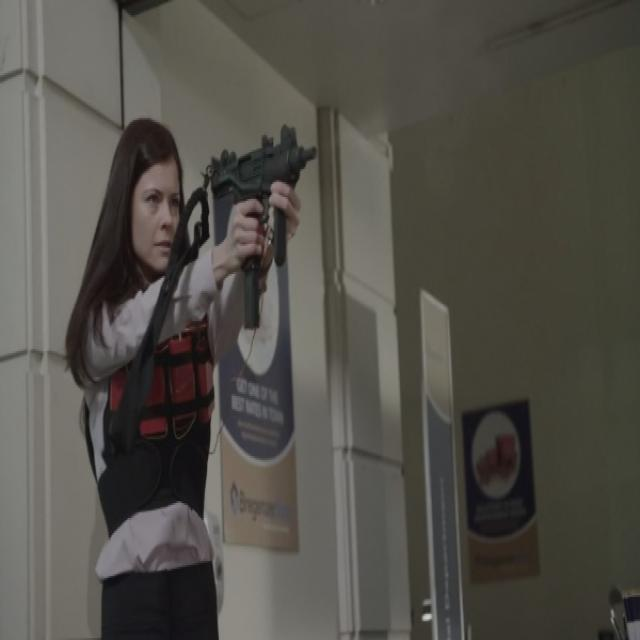rifle: (209, 116, 323, 339)
